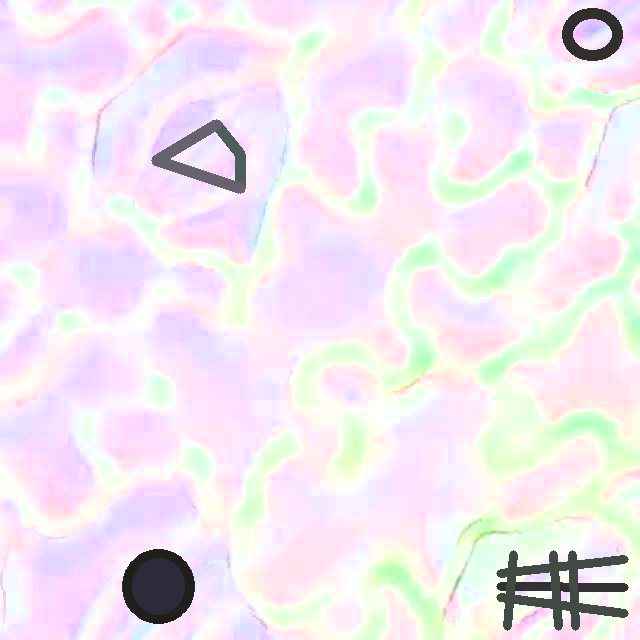open: (496, 550, 627, 630), (152, 120, 245, 193), (123, 549, 194, 623), (562, 7, 621, 61)
